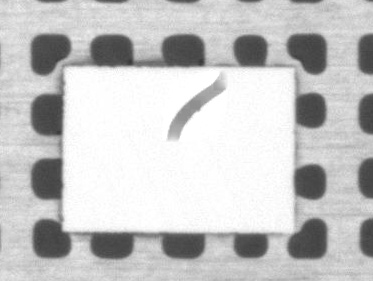DIE_INK: (211, 51, 307, 108)
